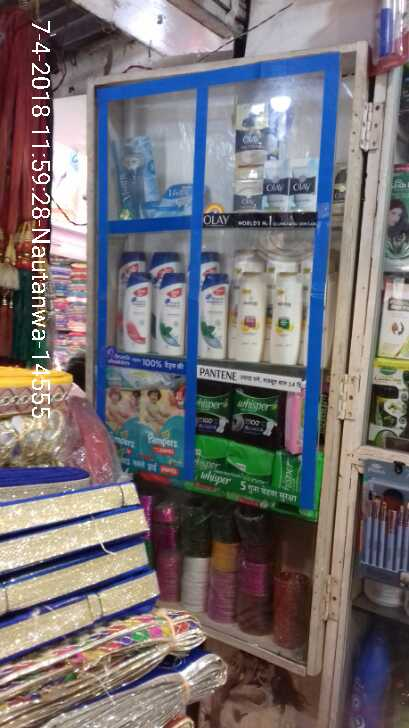venus: (118, 135, 153, 217), (160, 182, 191, 217)
